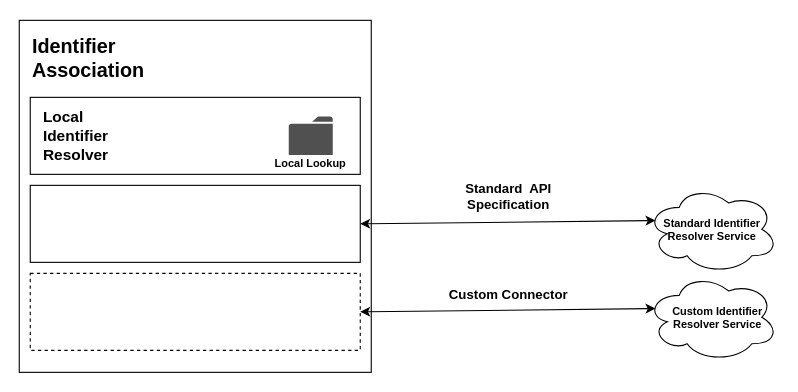
Image size: 798x392. Some labels were removed from this diagram. Each missing label, with the box of its shape:
3rd Party Identifier Resolvers: (29, 272, 360, 350)
Remote Identifier Resolver: (29, 184, 360, 262)
